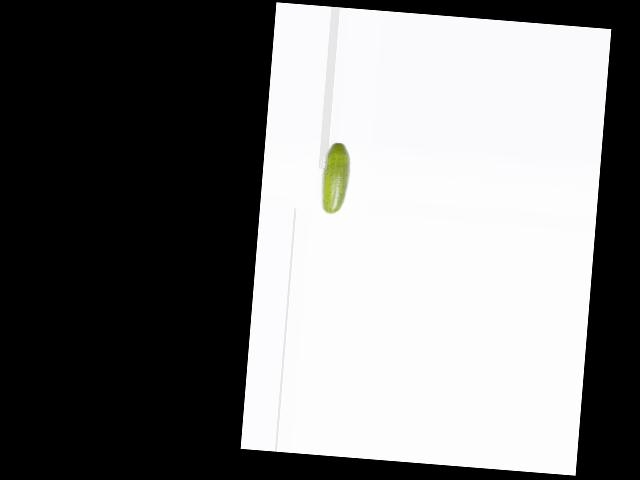cucumber: (318, 140, 352, 215)
